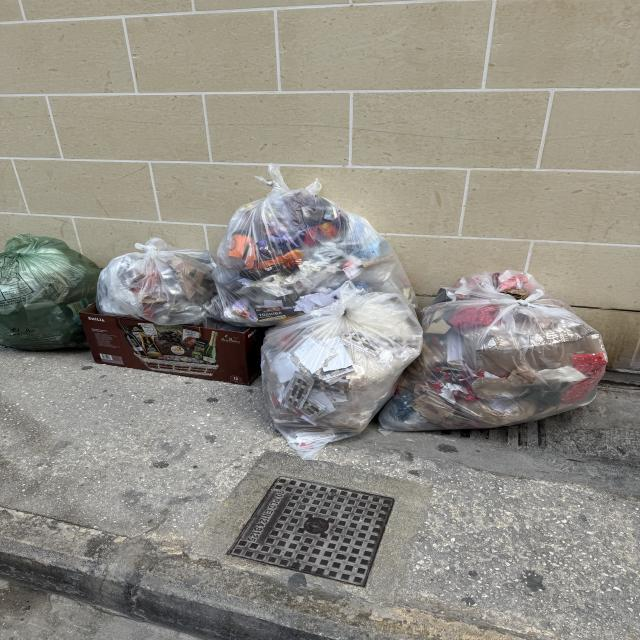Others Waste: (0, 235, 96, 352)
Recyclable Material -Grey Bags-: (97, 163, 608, 460)
